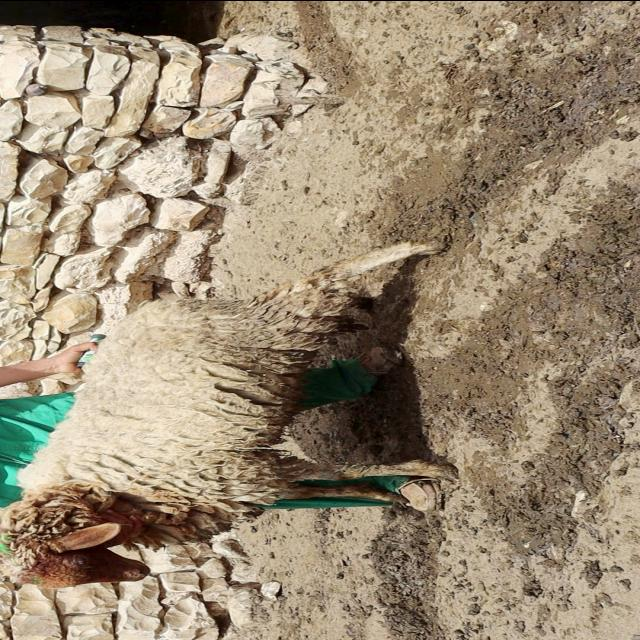Score_2: (0, 241, 454, 587)
